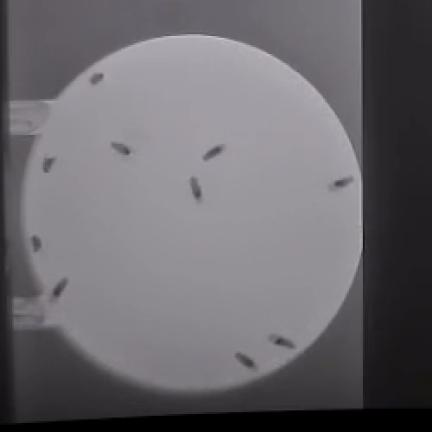fly: (51, 278, 69, 302), (203, 144, 224, 161), (270, 335, 295, 349), (236, 353, 257, 368), (191, 177, 202, 201), (111, 143, 131, 156), (332, 177, 354, 188), (44, 157, 57, 172), (90, 72, 103, 84), (32, 236, 41, 251)
